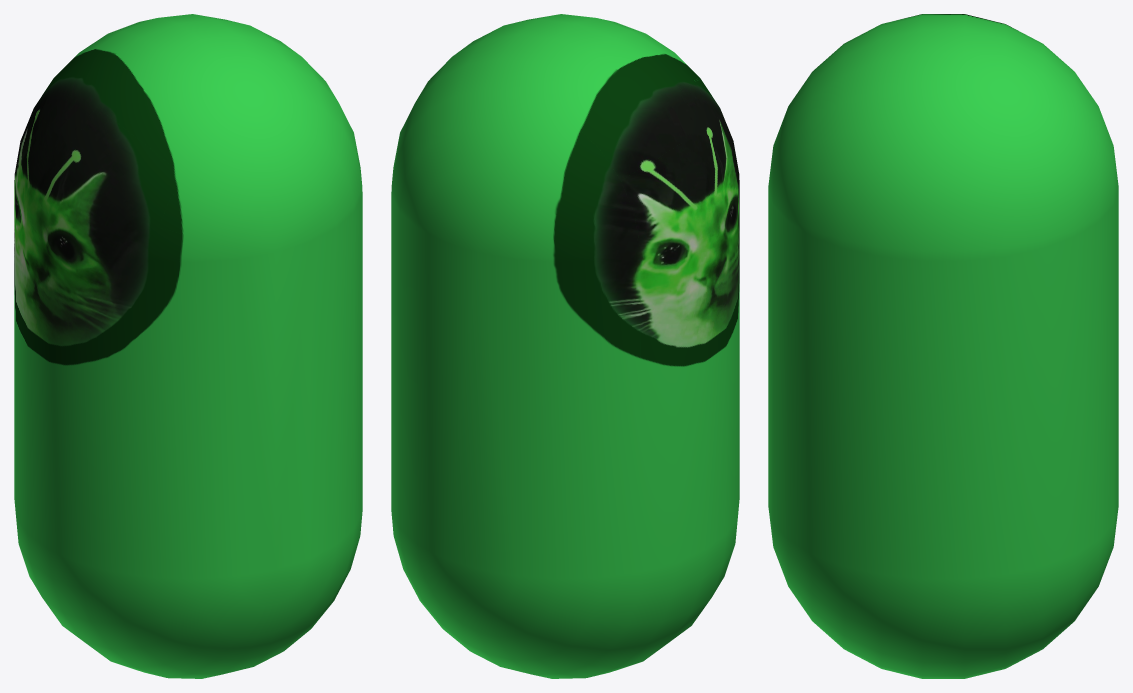
Rendered from Alien.fbx.
3 renders of one model, left to right at view 1: azimuth 30°, elevation 25°; view 2: azimuth 150°, elevation 25°; view 3: azimuth 270°, elevation 25°, orthographic.
Parts seen in each view (by area): view 1: Model 10; view 2: Model 10; view 3: Model 10.
Boxes of the visible parts, x1=… form: Model 10: x1=14, y1=14, x2=362, y2=678; Model 10: x1=391, y1=14, x2=739, y2=678; Model 10: x1=768, y1=14, x2=1118, y2=678.
Size of the model in its own units: 199 by 398 by 200.
1 material, 1 textured.
